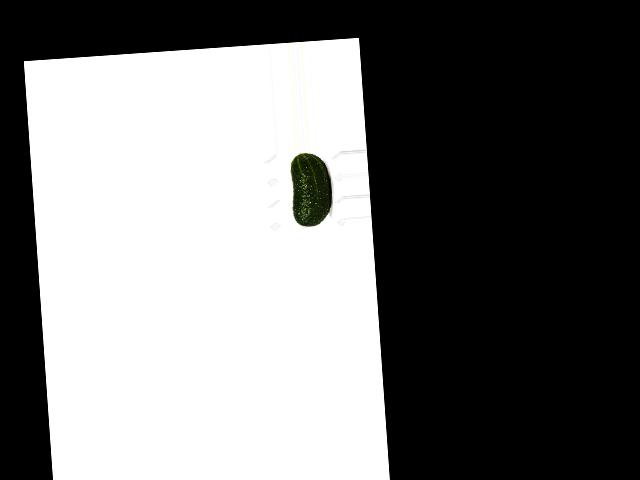cucumber: (290, 151, 333, 227)
